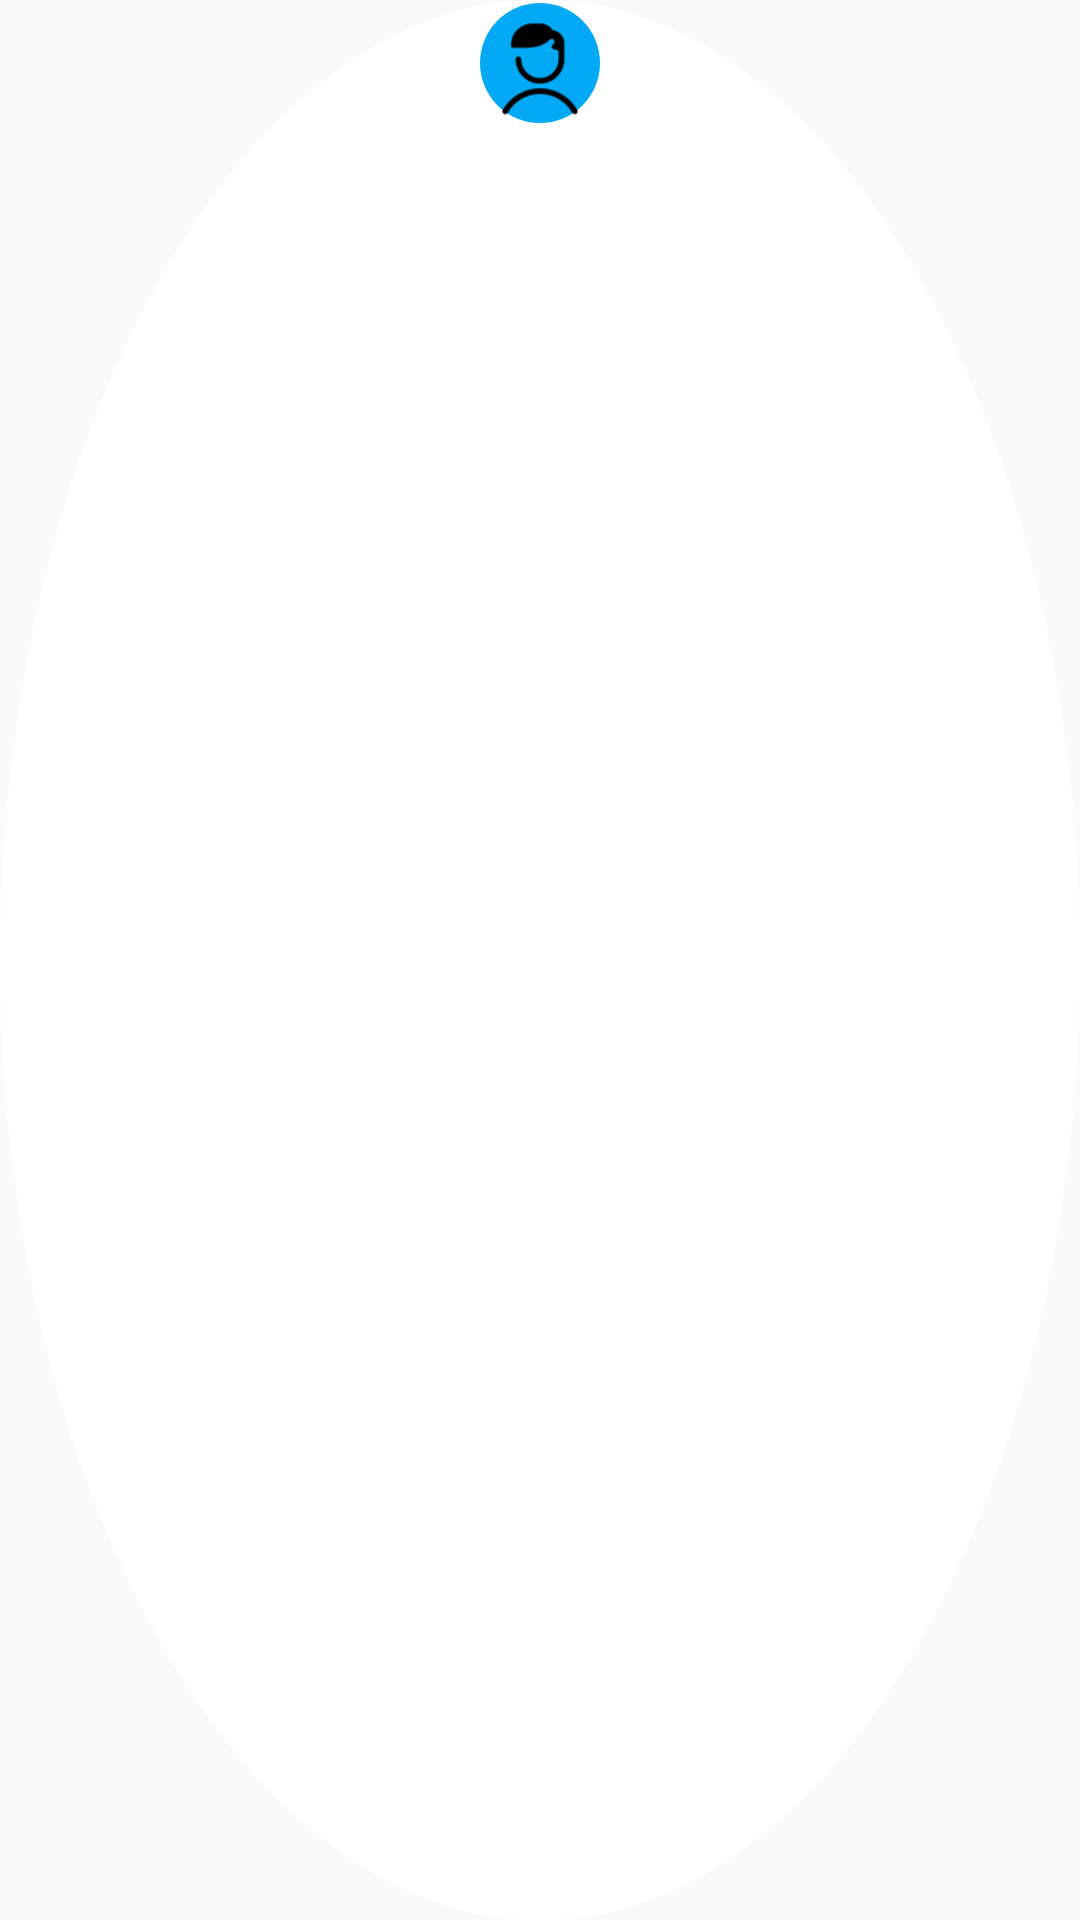

Screen size 1080 x 1920. Icon name, then its box in pixels as (x1, y1, x2, y2):
user: (480, 3, 600, 123)
